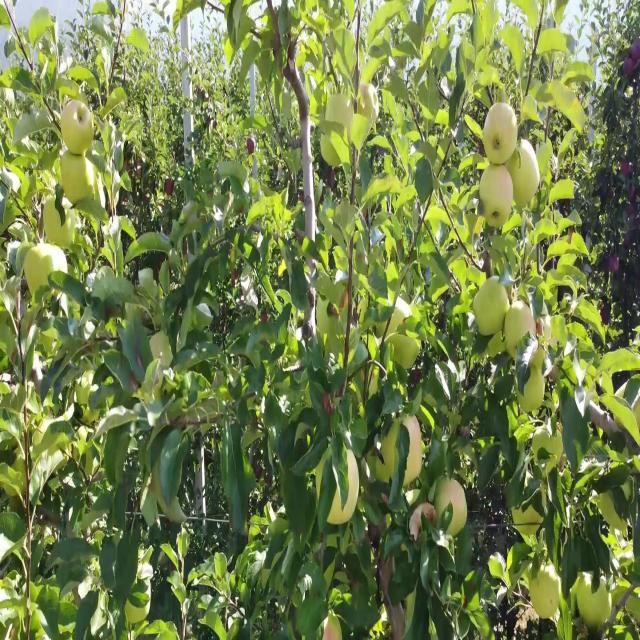apple: (384, 419, 424, 489), (324, 455, 360, 526), (60, 149, 97, 212), (24, 241, 64, 297), (484, 106, 519, 165), (60, 99, 96, 156), (509, 142, 539, 210), (504, 298, 534, 361), (480, 170, 512, 229), (476, 284, 509, 338), (328, 469, 359, 526), (44, 199, 73, 256), (440, 483, 468, 539), (28, 241, 55, 295), (516, 499, 543, 540), (524, 369, 546, 412), (412, 504, 437, 539), (348, 113, 369, 149), (56, 78, 80, 105), (524, 92, 543, 124), (488, 334, 507, 363), (568, 99, 584, 133), (540, 149, 552, 187), (396, 298, 411, 327), (552, 28, 568, 55), (324, 391, 339, 418), (324, 618, 343, 639), (572, 106, 585, 135), (540, 163, 553, 188), (624, 56, 636, 78), (164, 177, 176, 199), (608, 255, 620, 277), (476, 213, 487, 236), (0, 7, 10, 28), (4, 71, 14, 91), (620, 163, 633, 178), (632, 42, 640, 66), (280, 263, 288, 277), (248, 142, 256, 156)
